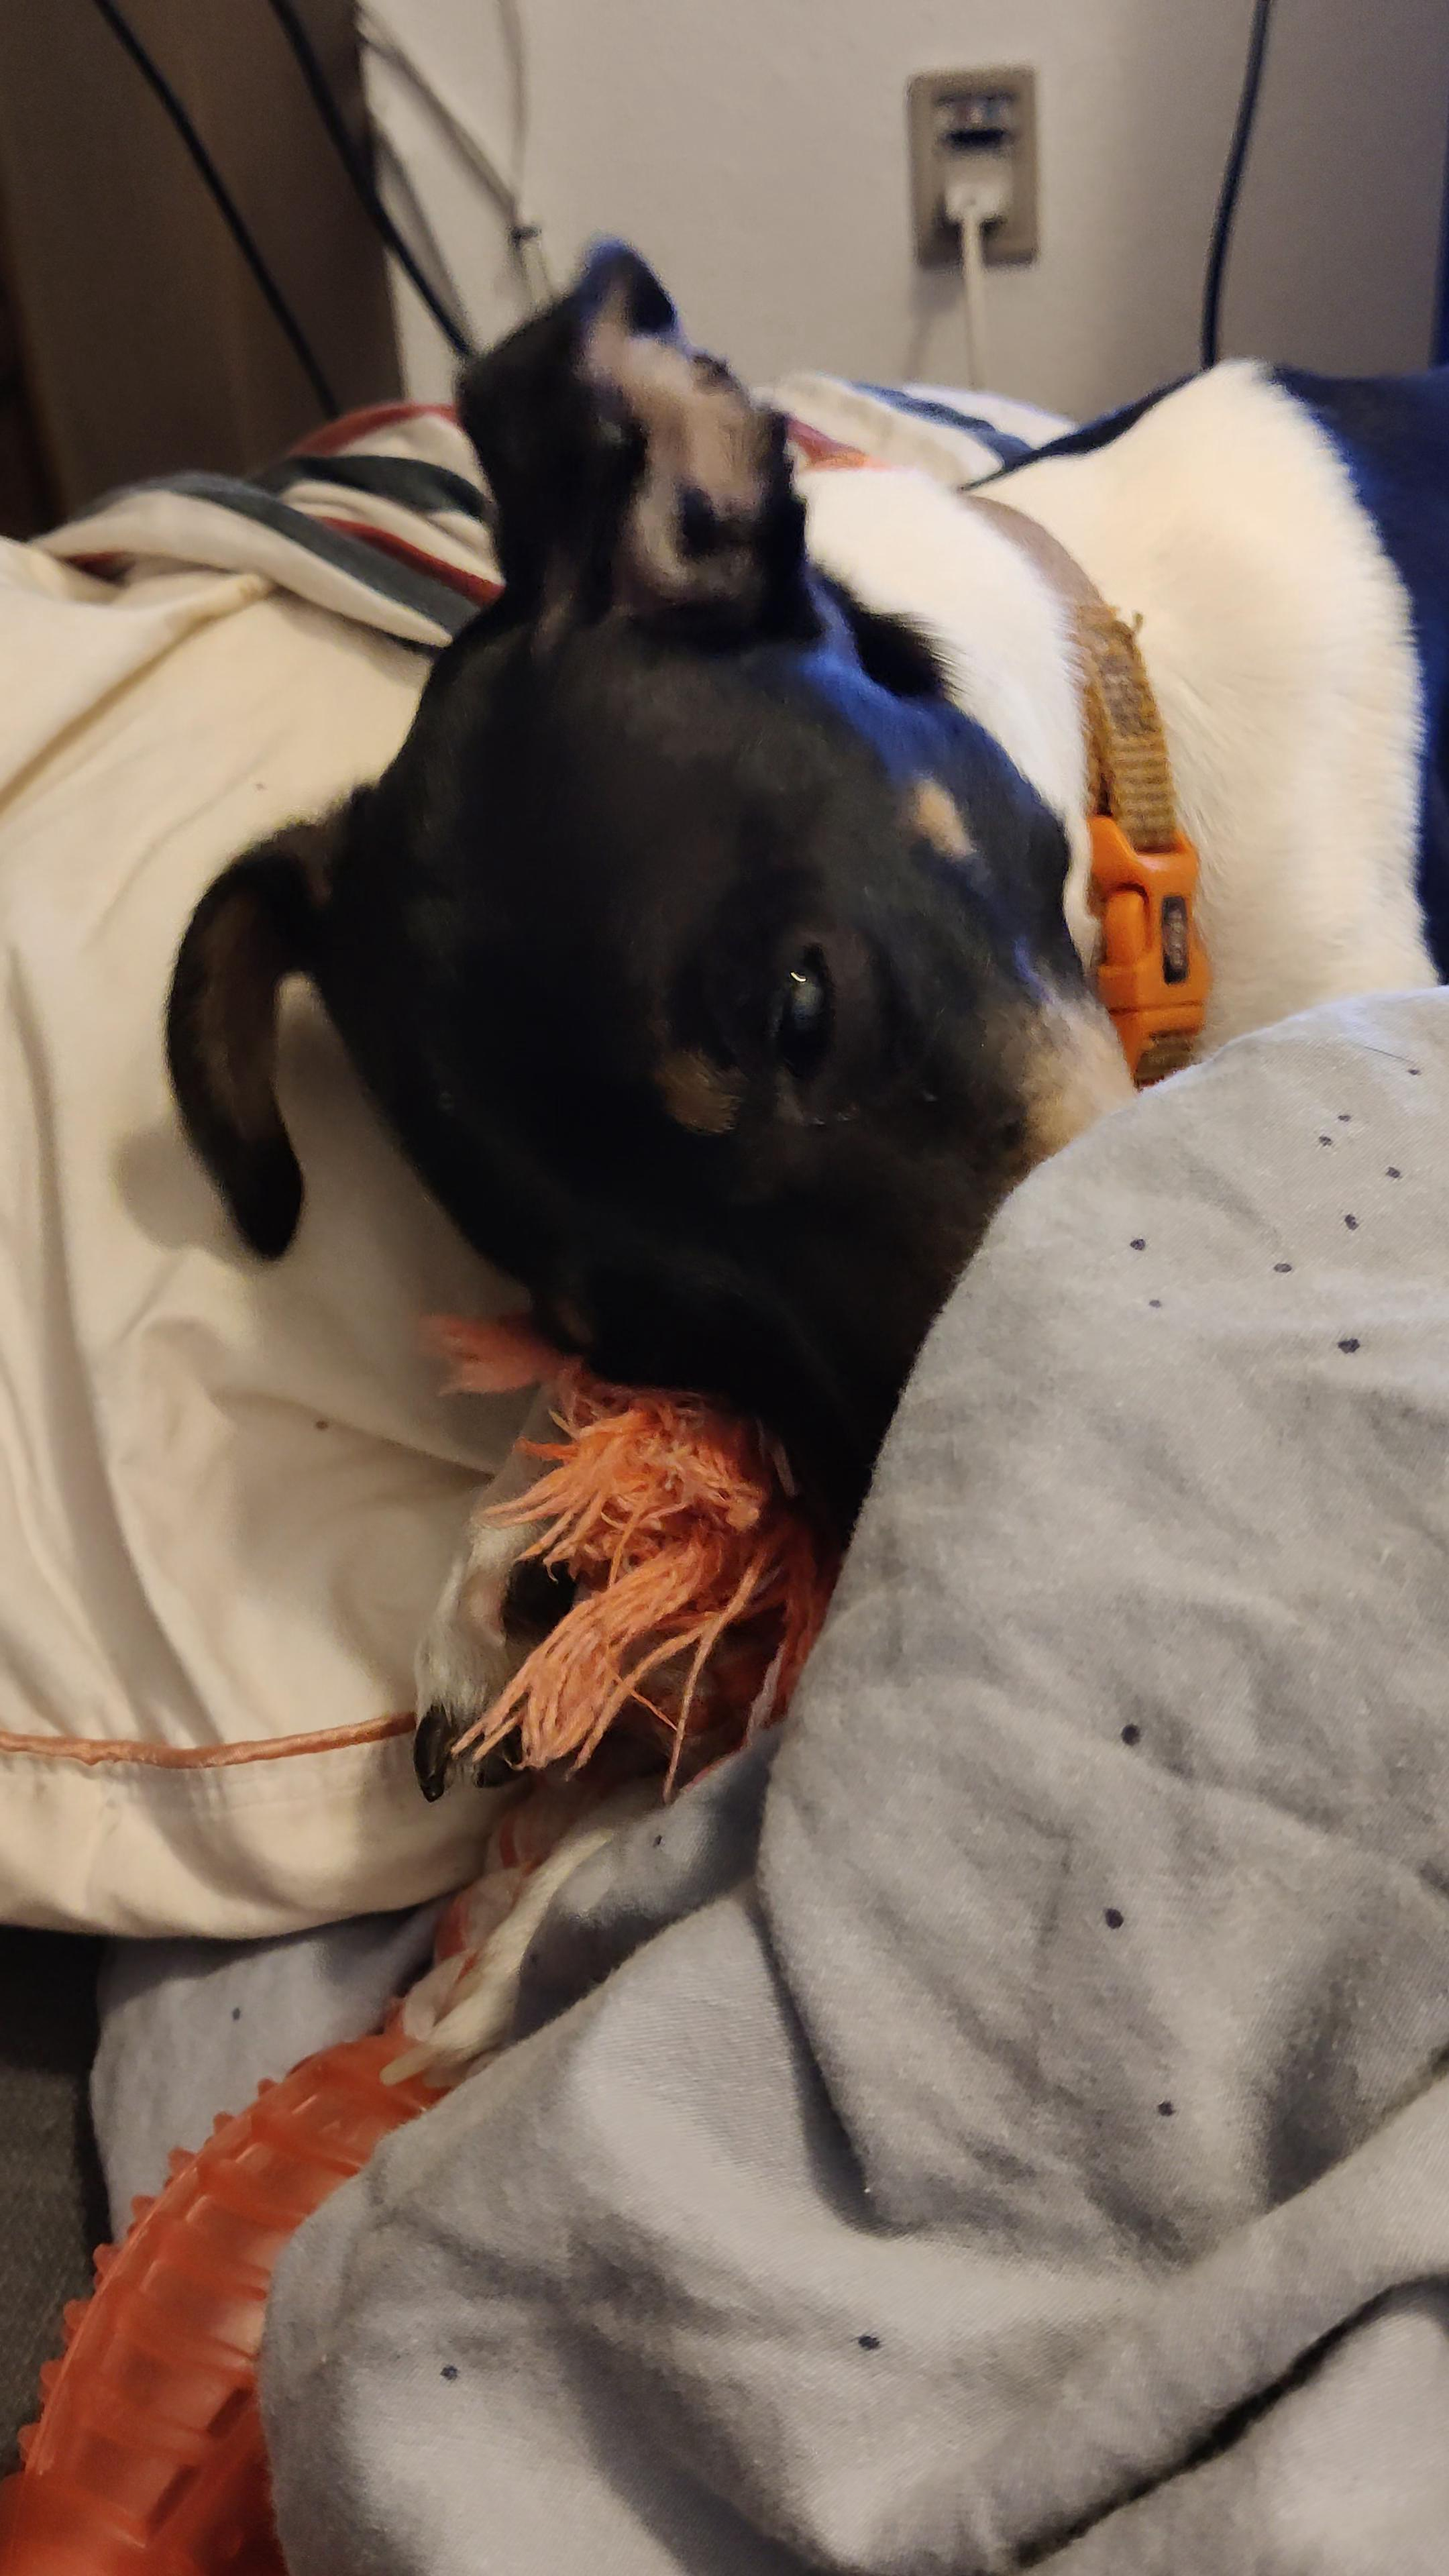Dog: (145, 189, 1449, 2107)
